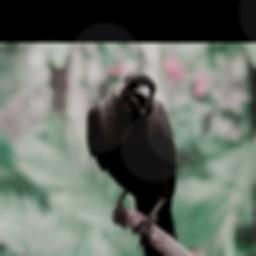Crow: (86, 70, 179, 256)
